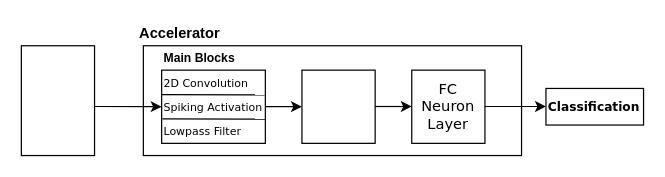
This 665x177 diagram has some shape labels left out. The box of each missing label's shape, as (x1, y1, x2, y2) in pixels:
Global Average Pooling: (301, 69, 375, 143)
RGB Image To Classify: (20, 45, 95, 156)
